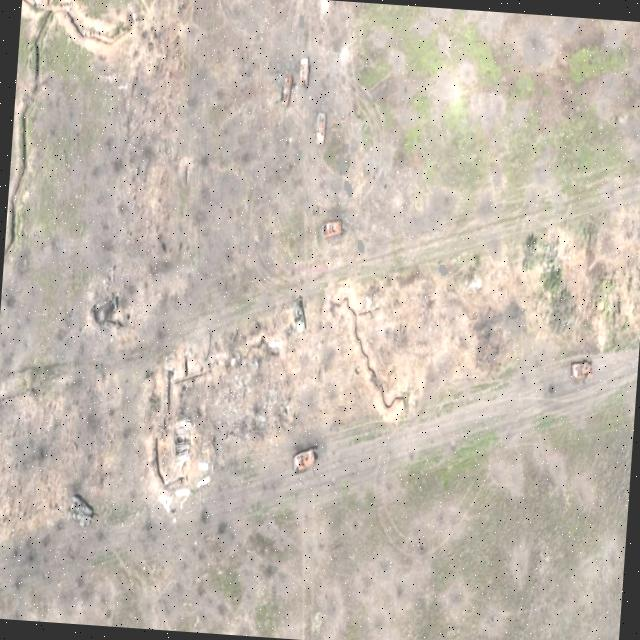AIFV: (291, 295, 310, 338)
Destroyed: (292, 447, 318, 476), (281, 70, 295, 112), (570, 361, 595, 382), (299, 55, 313, 92), (322, 219, 345, 240), (315, 112, 328, 149)
MBT: (65, 494, 98, 532)
